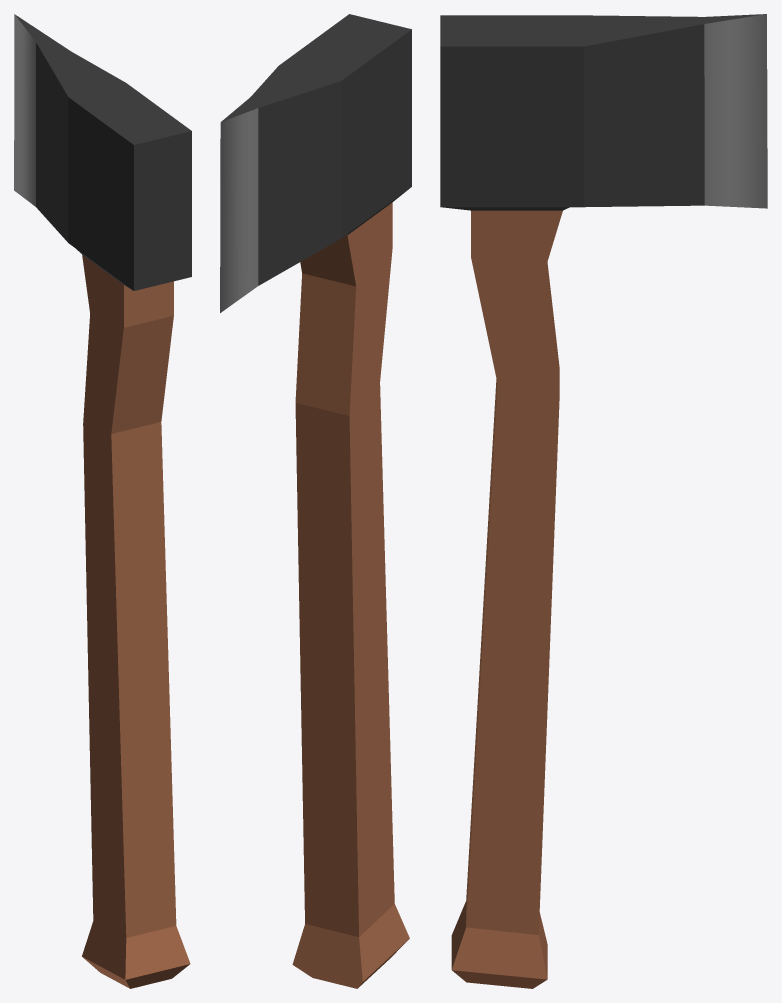
File: Axe.fbx
3 renders of one model, left to right at view 1: azimuth 30°, elevation 25°; view 2: azimuth 150°, elevation 25°; view 3: azimuth 270°, elevation 25°, orthographic. The views are drawn at different scales.
Visible parts, largest first — view 1: Axe; view 2: Axe; view 3: Axe.
Part boxes in pixels (x1,y1,x2,y2): Axe: (14, 14, 191, 988); Axe: (220, 14, 411, 988); Axe: (440, 14, 767, 988).
Size of the model in its own units: 0.1859 by 2.39 by 0.7349.
